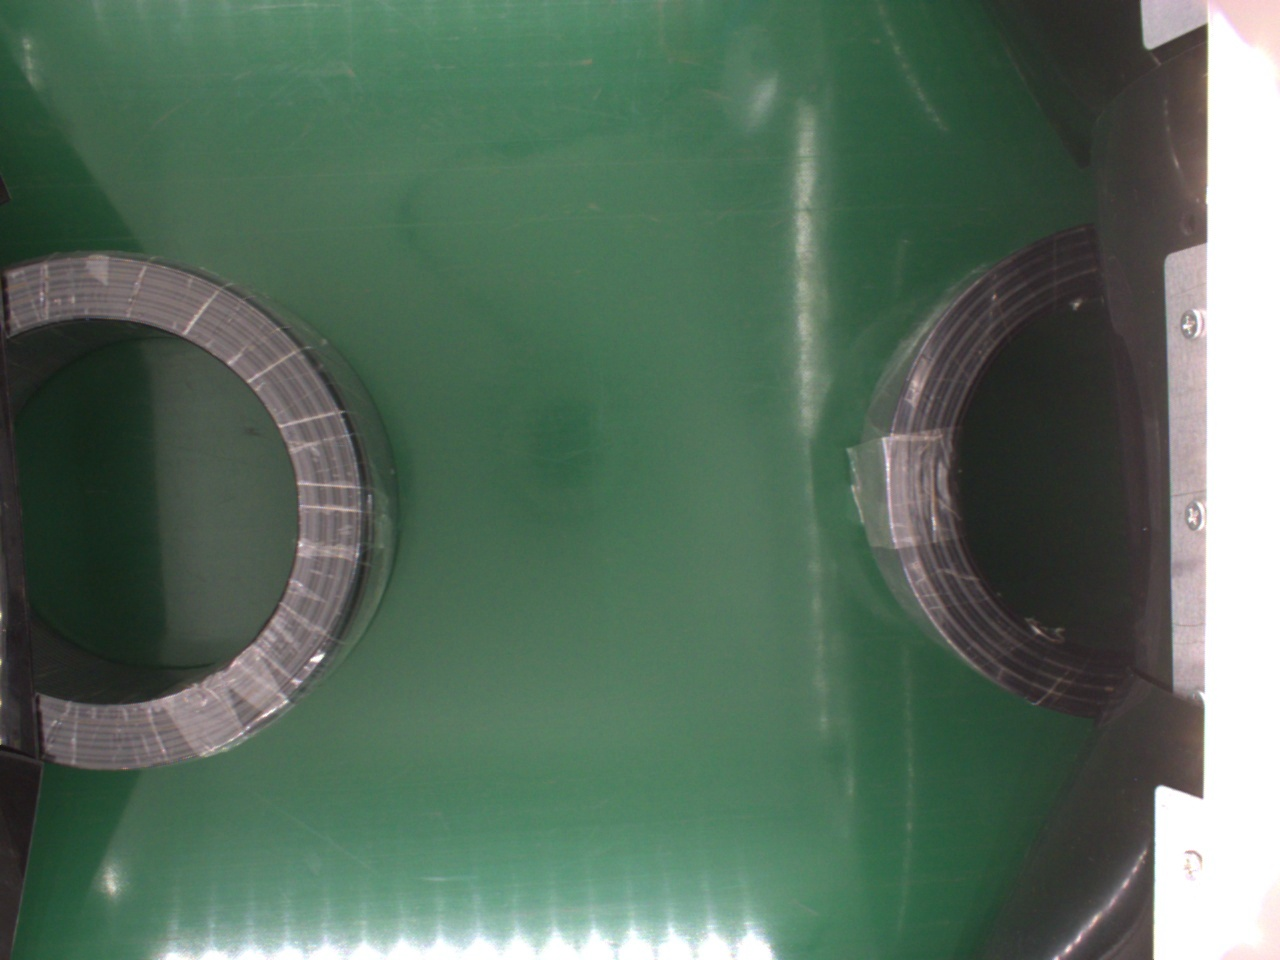black: (8, 249, 396, 774), (859, 221, 1146, 721)
